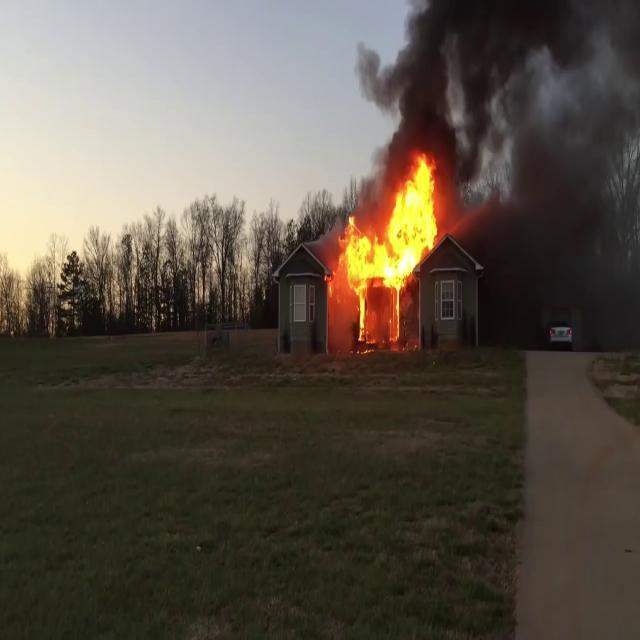Fire: (333, 153, 445, 341)
Smoke: (469, 1, 640, 338)
